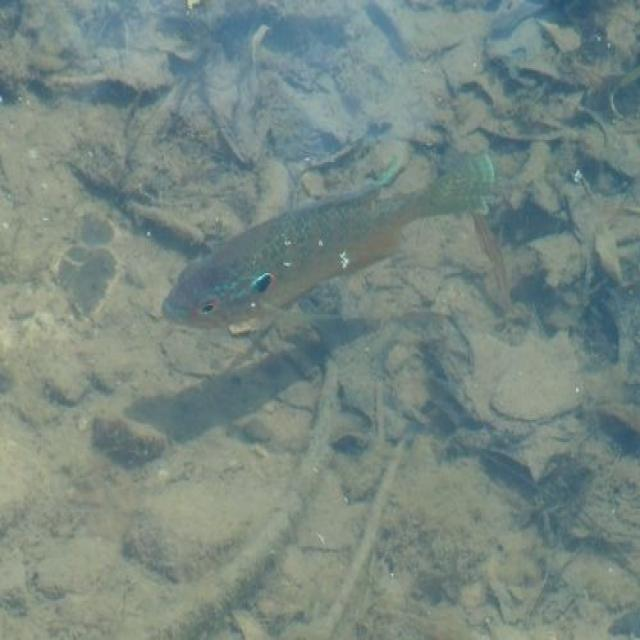Gunes Levregi: (159, 139, 512, 346)
